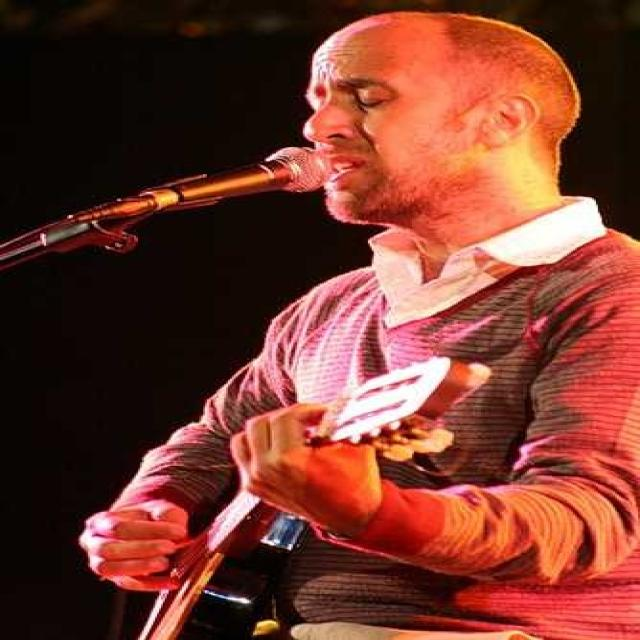microphone: (156, 132, 348, 225)
